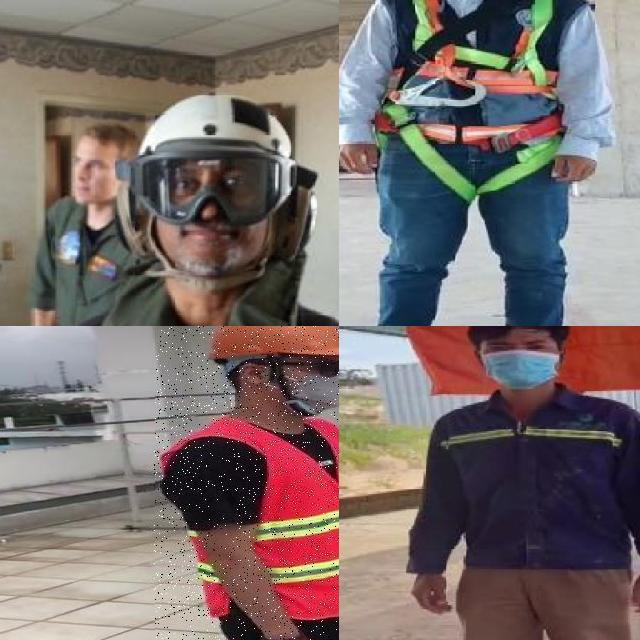No_Ear-Protection: (237, 360, 269, 390)
face_mask: (479, 339, 557, 386)
face_nomask: (158, 156, 262, 254), (71, 144, 106, 202)
glasses: (130, 145, 296, 226)
hand_noglove: (403, 569, 458, 616), (544, 144, 601, 188), (339, 137, 384, 180), (625, 566, 640, 617)
head_helmet: (125, 88, 302, 165), (204, 326, 339, 365)
head_nohelmet: (78, 114, 130, 148), (468, 326, 569, 341)
person: (339, 0, 636, 326), (397, 326, 640, 640), (10, 112, 339, 326), (155, 326, 339, 640)
vest: (360, 0, 606, 159), (154, 414, 339, 619)
